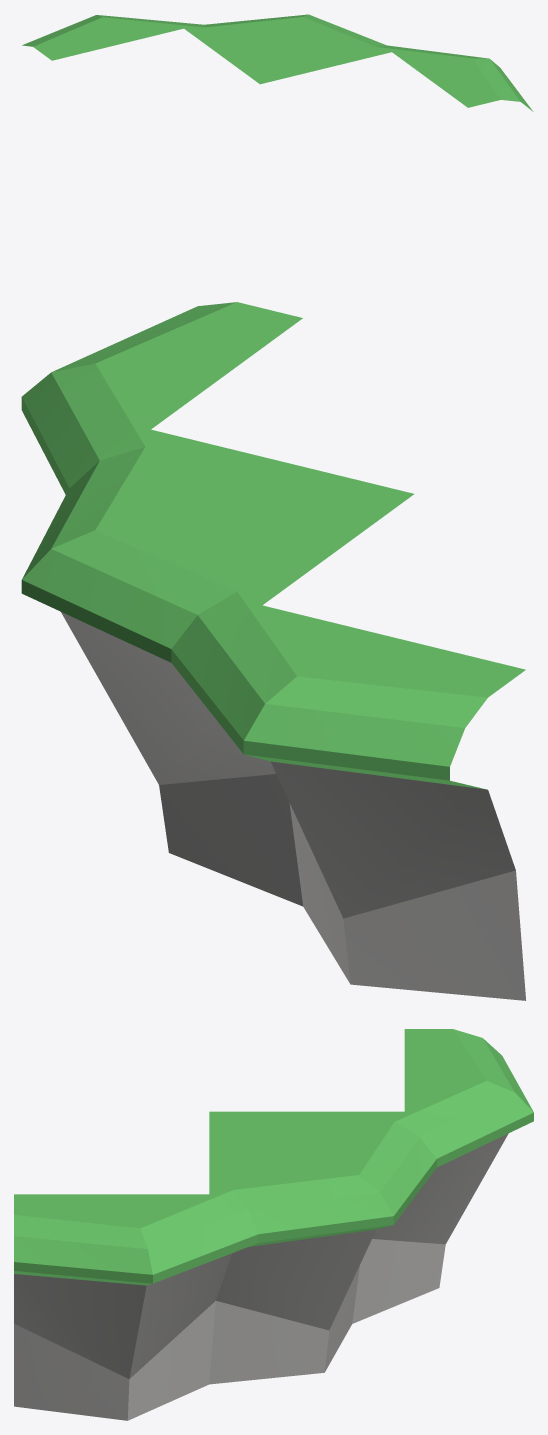
The model's file is Cliff_Terrain_Corner_Outer_3x3_Top.glb.
3 renders of one model, top to bottom at view 1: azimuth 30°, elevation 25°; view 2: azimuth 150°, elevation 25°; view 3: azimuth 270°, elevation 25°, orthographic. The views are drawn at different scales.
Parts seen in each view (by area): view 1: Cliff_Terrain_Corner_Outer_3x3_Top; view 2: Cliff_Terrain_Corner_Outer_3x3_Top; view 3: Cliff_Terrain_Corner_Outer_3x3_Top.
Part boxes in pixels (box(x1,y1,x2,y2)): Cliff_Terrain_Corner_Outer_3x3_Top: box(22, 14, 533, 111); Cliff_Terrain_Corner_Outer_3x3_Top: box(21, 302, 525, 1000); Cliff_Terrain_Corner_Outer_3x3_Top: box(14, 1029, 533, 1420).
Bounding box in the file's own units: 2.66 × 1.2 × 2.66.
